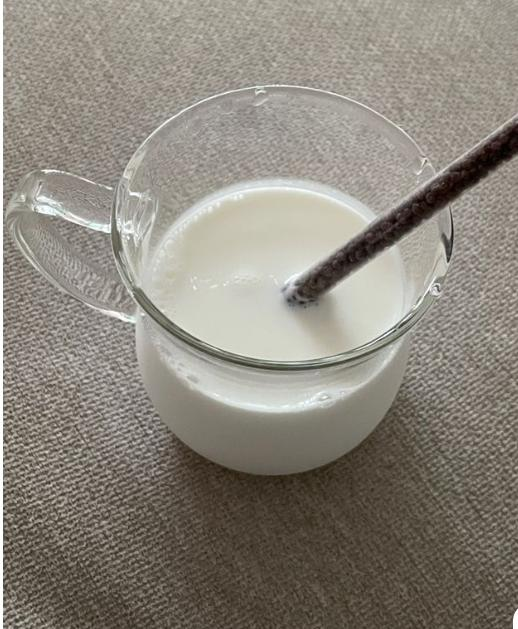produk_susu: (147, 113, 400, 440)
